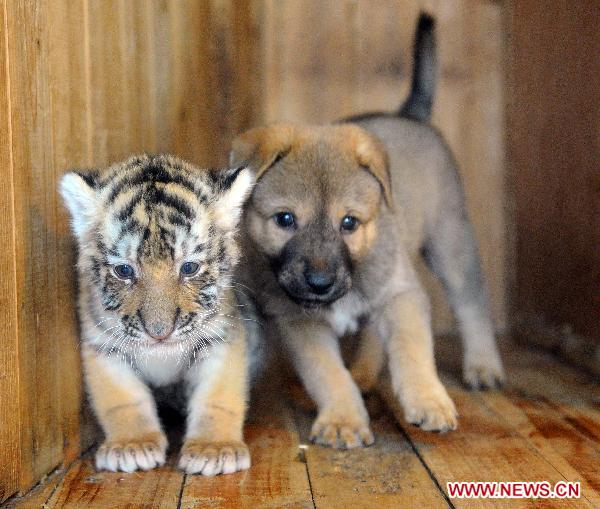dog: (219, 98, 510, 448)
tiger: (58, 153, 262, 479)
